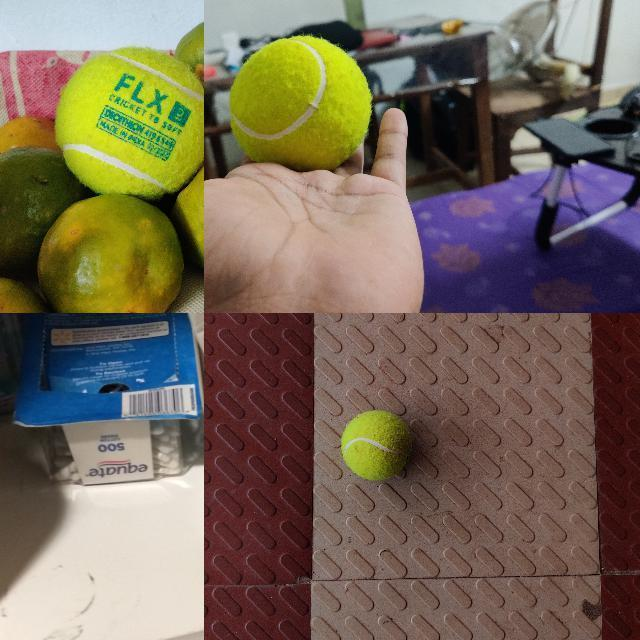tennis-ball: (55, 46, 182, 192), (228, 34, 372, 160), (341, 410, 412, 480)
